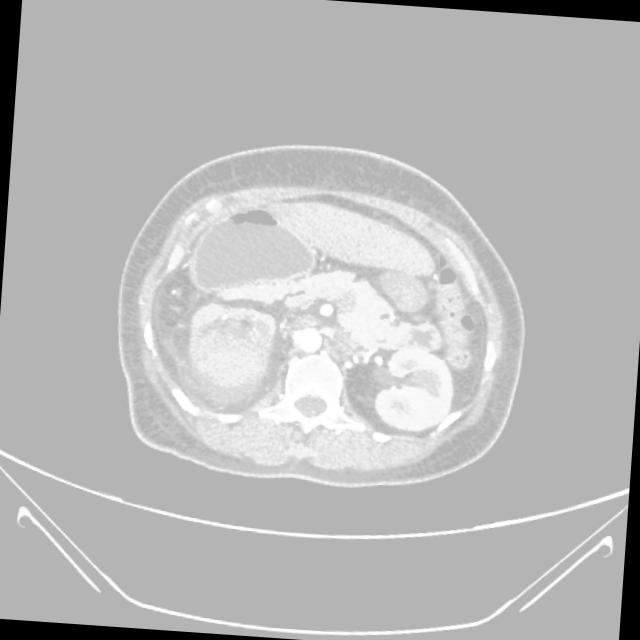TUMOR: (200, 212, 514, 370)
